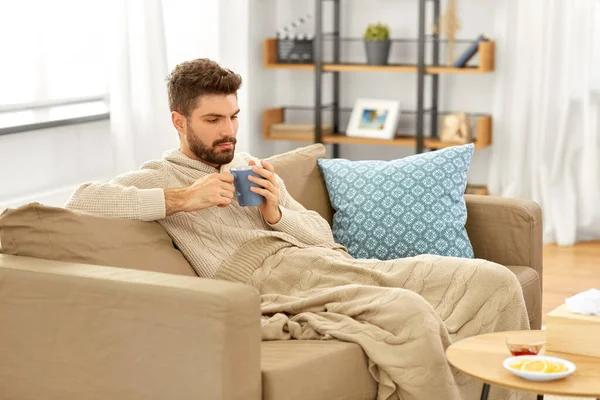blanket: (200, 233, 539, 400)
sweater: (62, 147, 338, 281)
